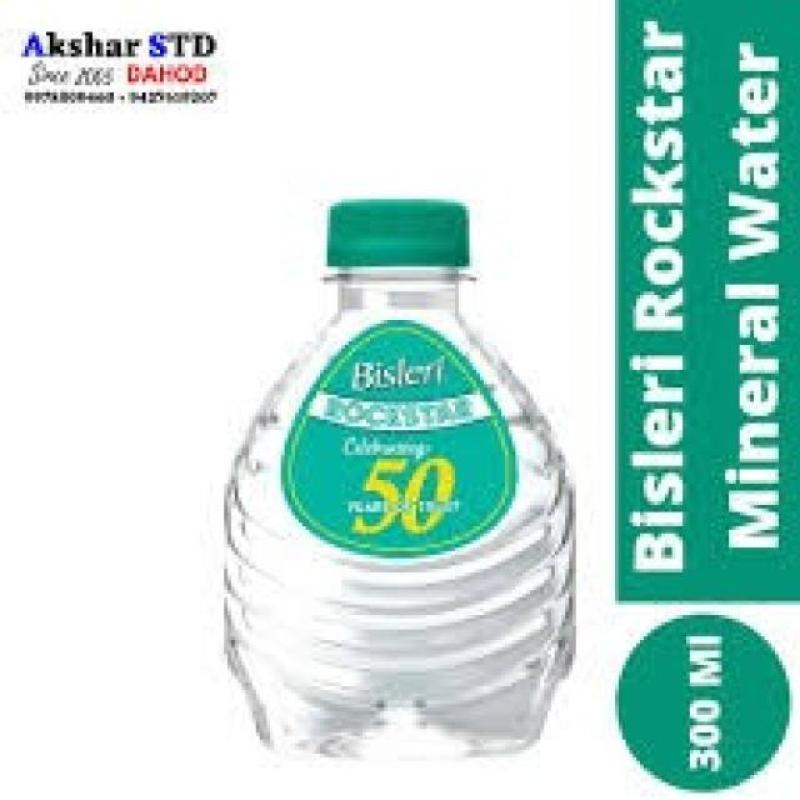botella: (224, 195, 576, 761)
